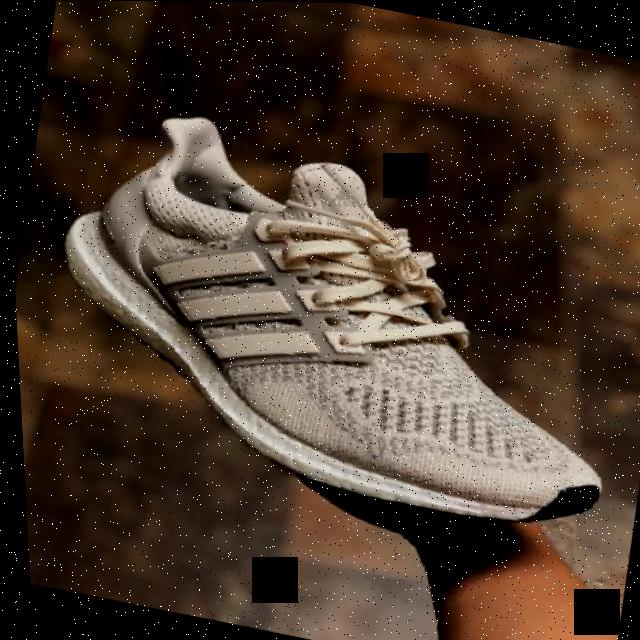shoes: (4, 88, 640, 546)
